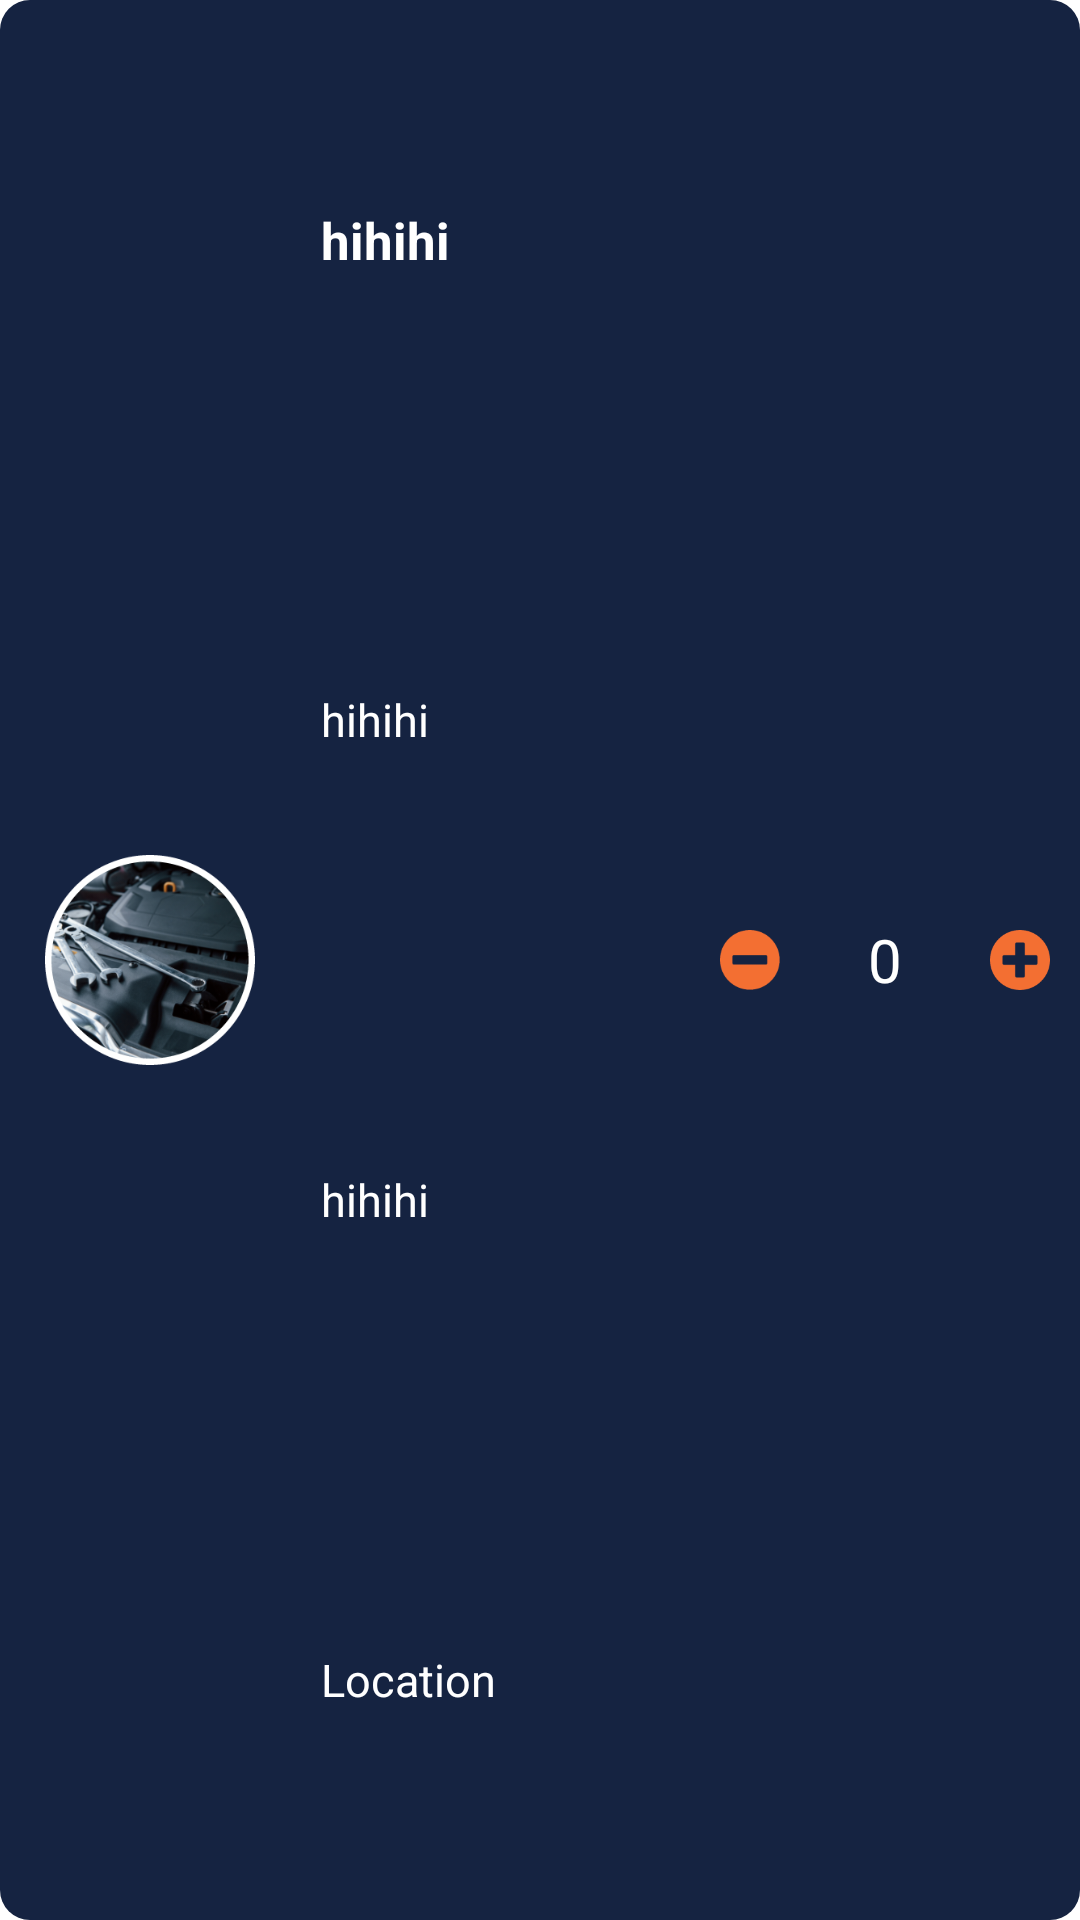

Where to tap for icons on this 1080w x 1920h app screen, as point (x, y):
add: point (1020, 960)
minus: point (750, 960)
